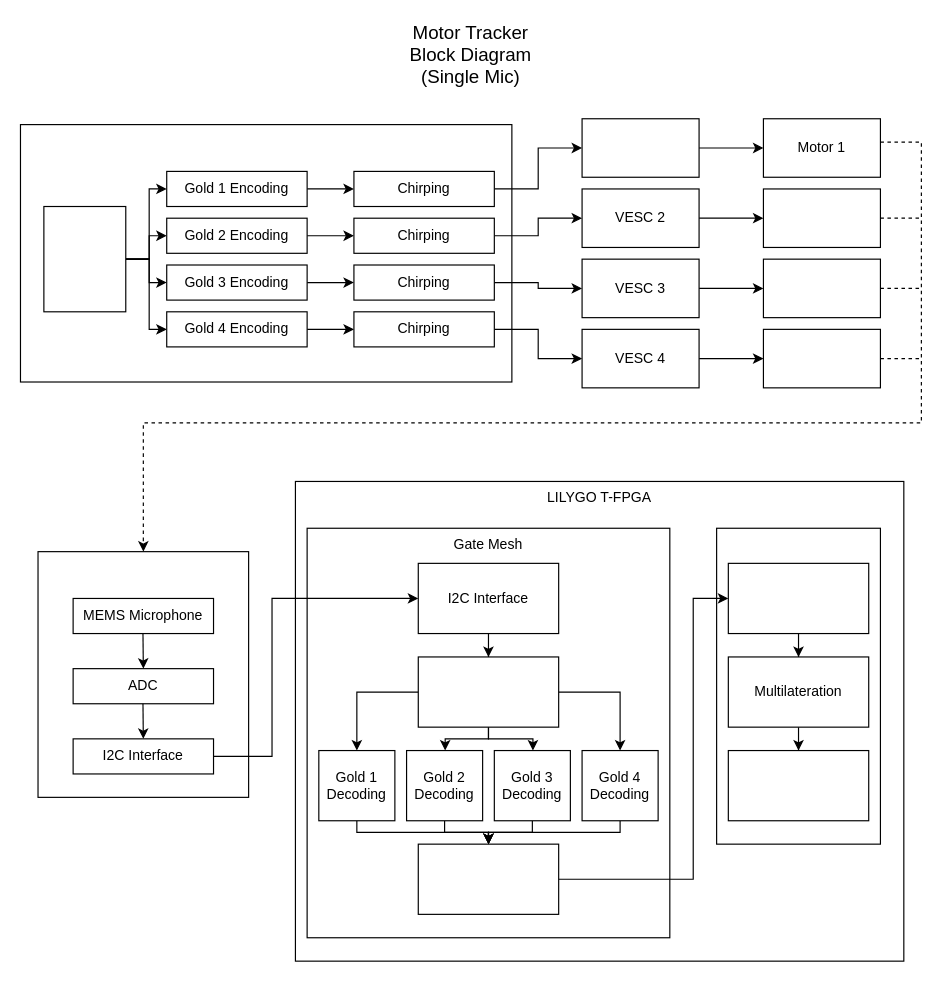
Image size: 951x982. Some labels were removed from this diagram. Each missing label, with the box of its shape:
Dechirping/FFT: (417, 656, 559, 727)
Distance Reporting (WiFi/Serial): (727, 749, 869, 821)
ESP-32: (715, 527, 880, 844)
Microphone Module: (37, 550, 249, 797)
Motor 2: (762, 188, 880, 247)
Motor 3: (762, 258, 880, 318)
Motor 4: (762, 328, 880, 388)
Motor Identification: (727, 562, 869, 634)
Timer/Message Generator: (43, 205, 126, 312)
Timestamping/Packetization: (417, 843, 559, 914)
Tone Generator MCU: (19, 123, 512, 382)
VESC 1: (581, 118, 699, 177)
